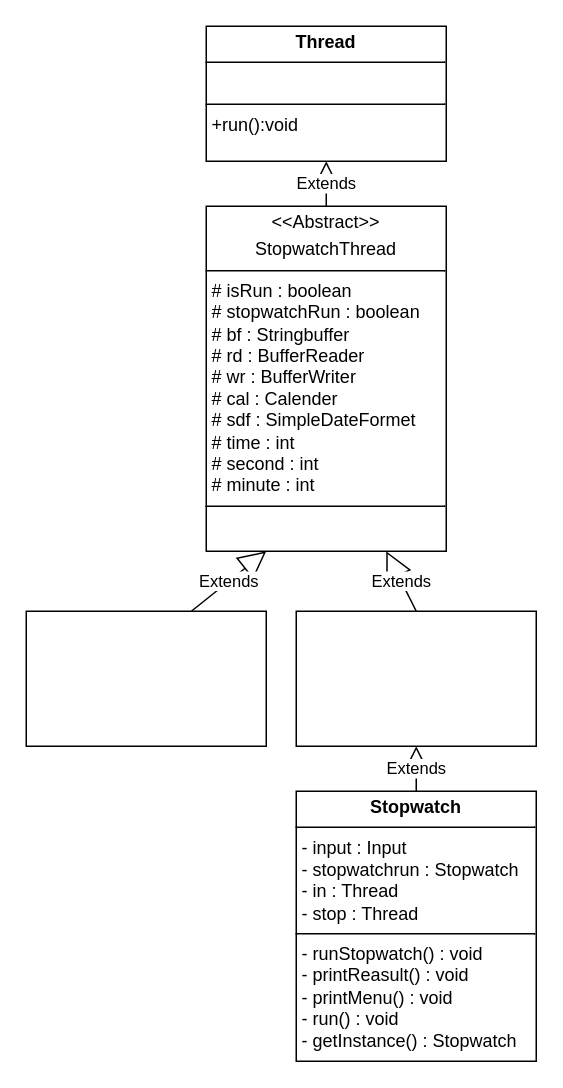
This 563x1088 diagram has some shape labels left out. Here are the shapes that lost their labels. From the top down, the centre of each, then its label:
At point (145, 678): "Input".
At point (415, 678): "StopwatchRun - printResult() : void".
